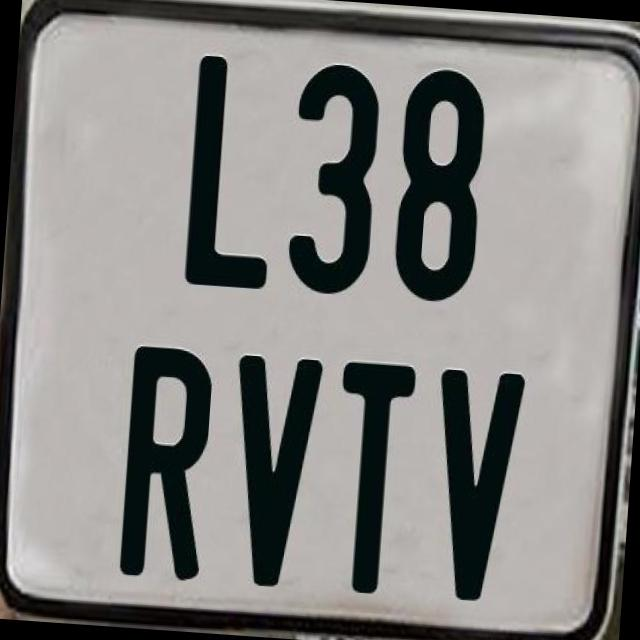3: (284, 60, 386, 304)
8: (390, 65, 490, 302)
L: (180, 54, 280, 290)
T: (326, 355, 420, 594)
V: (222, 354, 328, 592), (424, 365, 526, 607)
